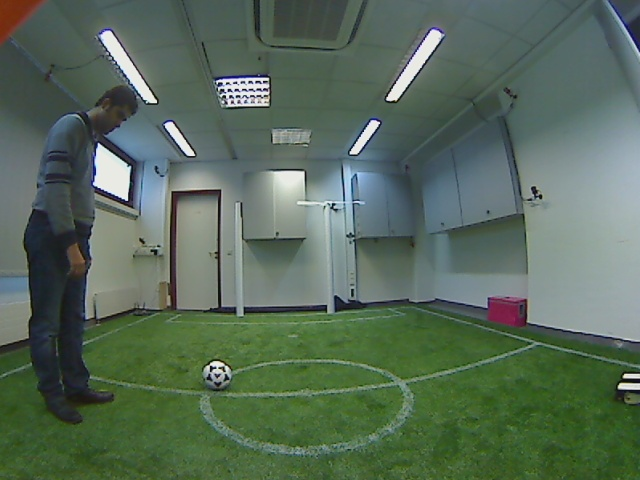ball: (195, 358, 236, 393)
